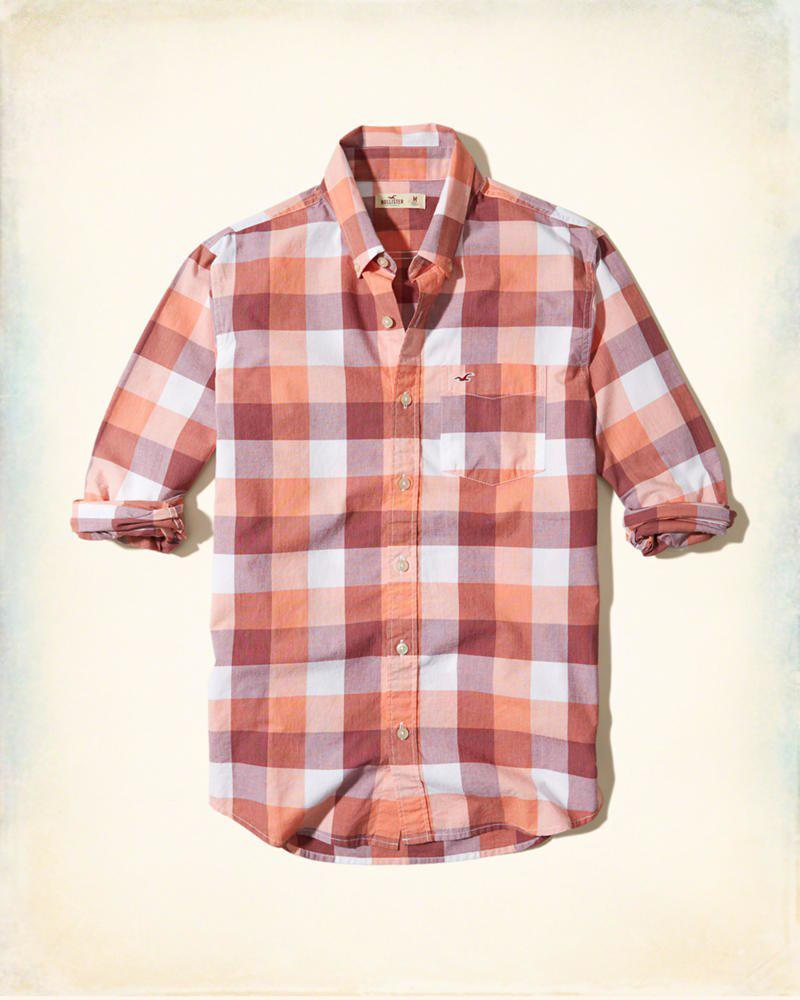teeshirt: (70, 125, 736, 865)
